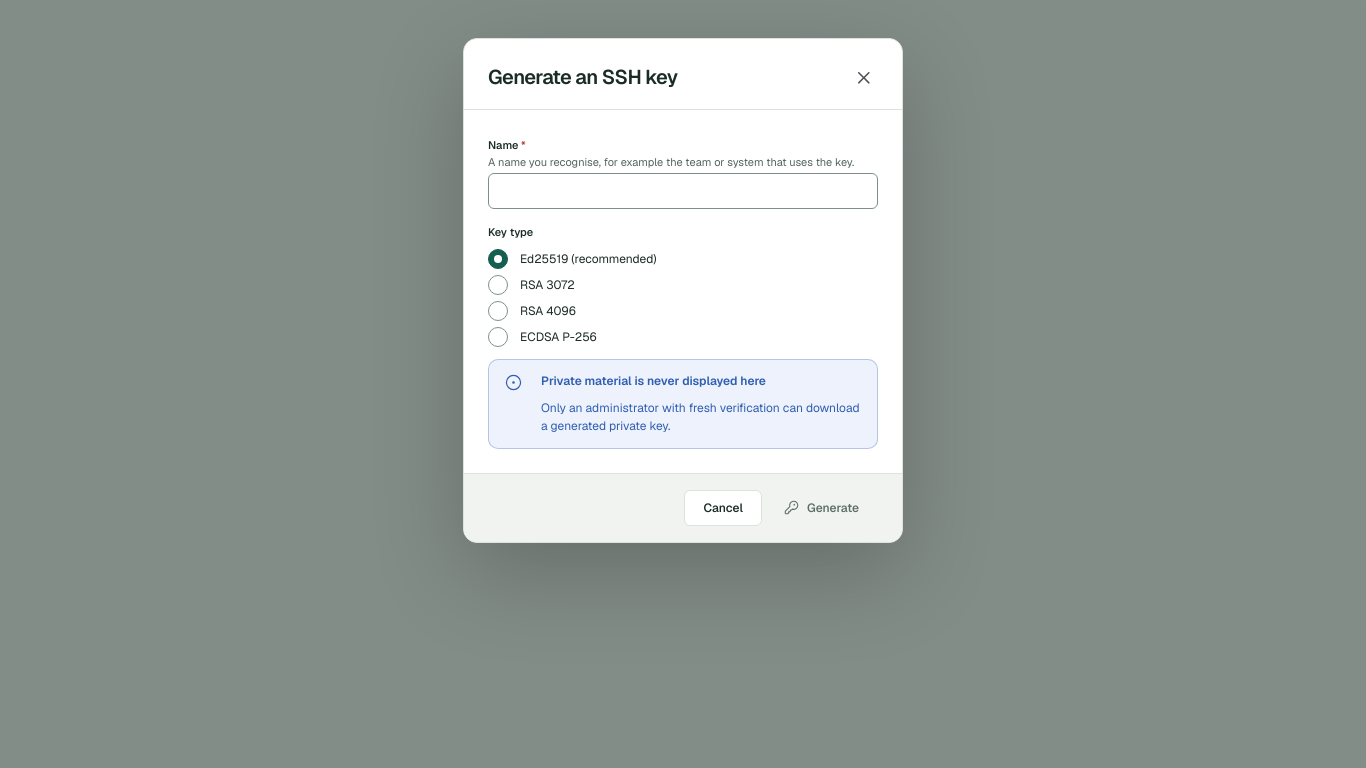
Test: GenerateKeyDialog › sends the name and chosen type and reports the new key
Type " backup " into the field labelled "Name *" at point(683, 191), box [488,173,878,209]
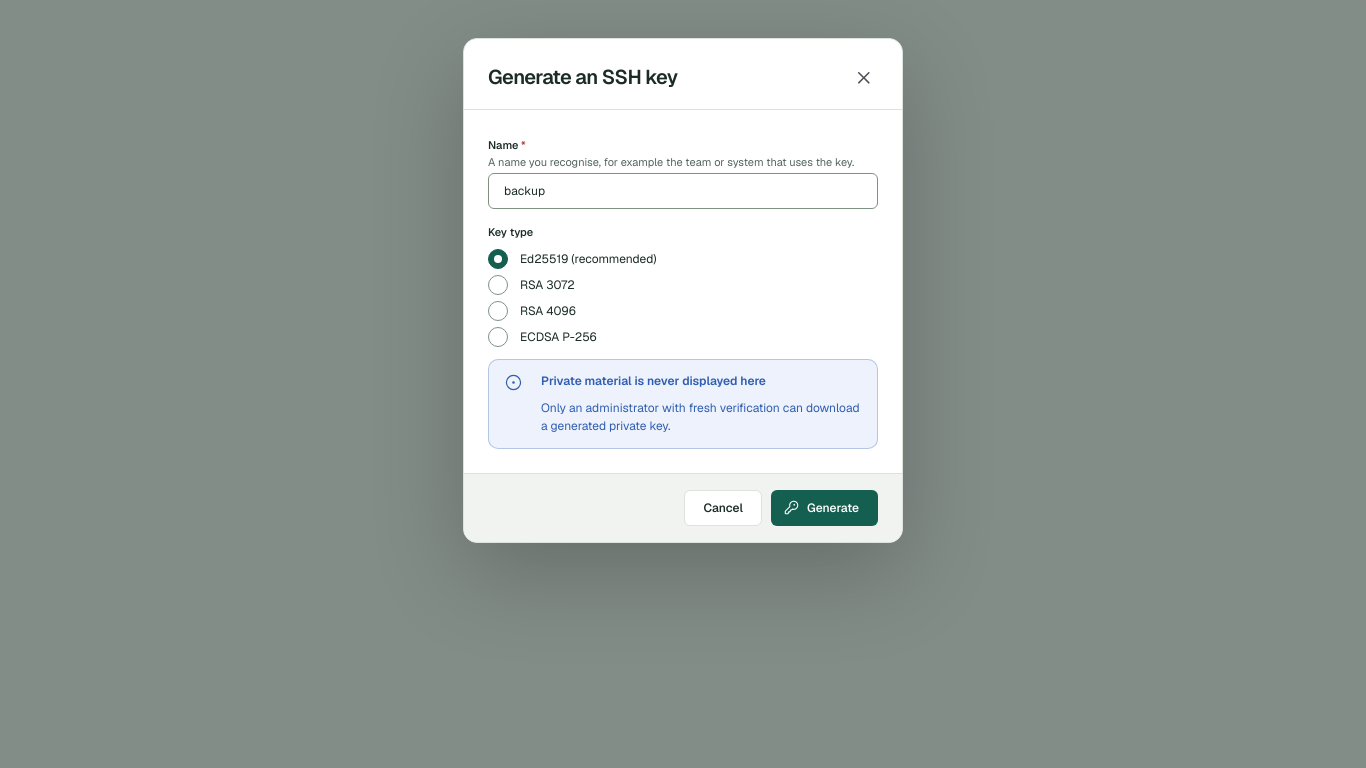
Click the radio button labelled "RSA 4096" at point(498, 311), box [488,301,508,321]
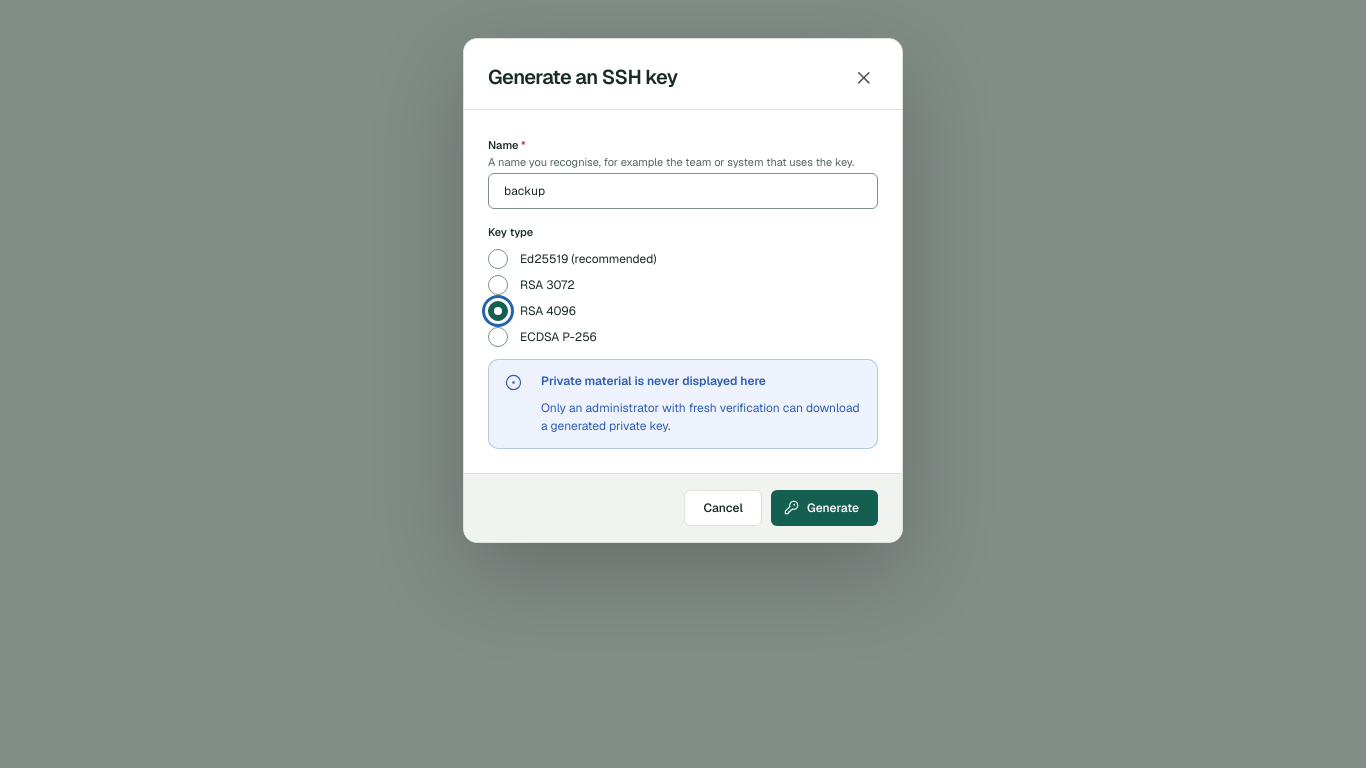
Click the button "Generate" at point(824, 508), box [771,490,878,526]
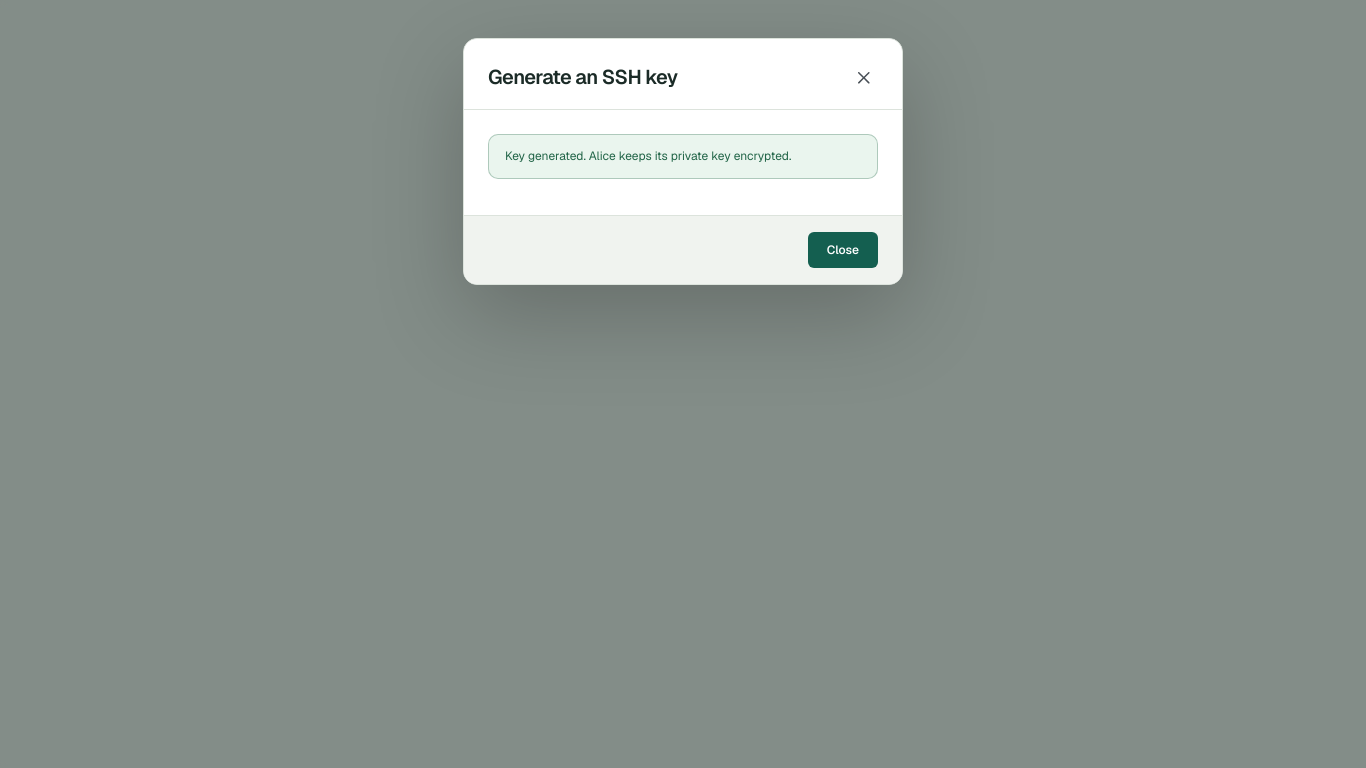
Result: the text "Key generated. Alice keeps its private key encrypted." is shown at [505,148,791,164]
